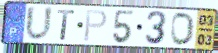3: (144, 10, 170, 47)
5: (111, 9, 135, 45)
O: (170, 11, 196, 47)
P: (82, 9, 109, 43)
T: (56, 8, 76, 42)
U: (24, 5, 54, 43)
